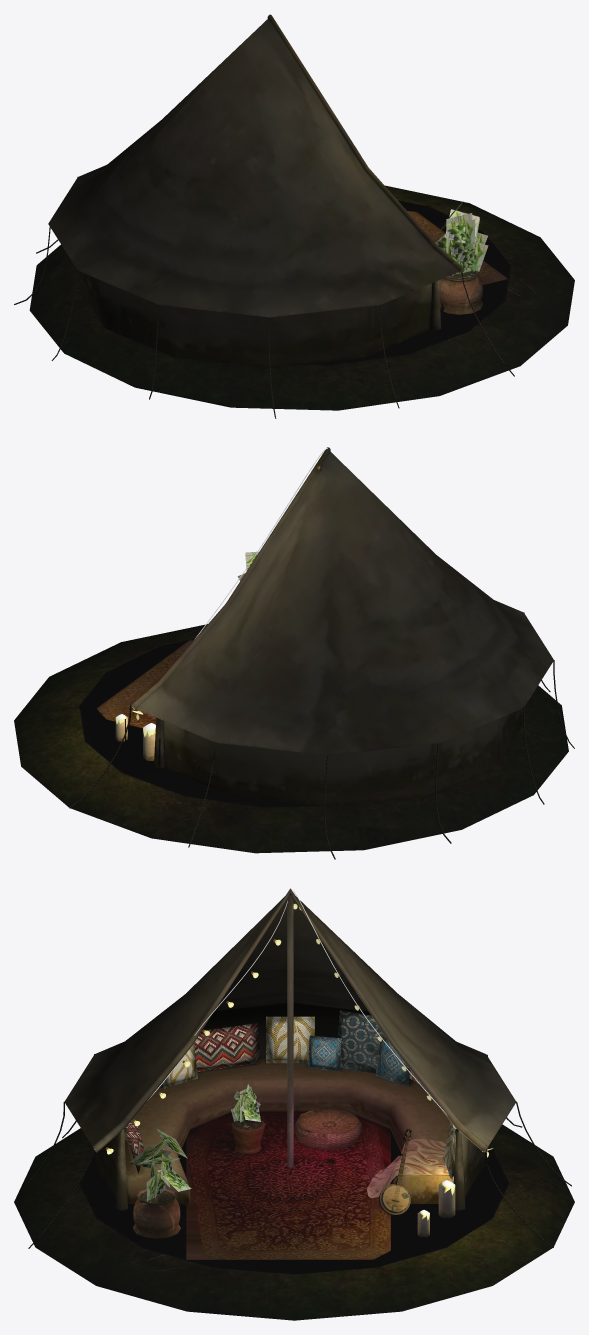
Rendered from echo_house_compressed.glb.
3 views of the same model, one above another, from view 1: azimuth 30°, elevation 25°; view 2: azimuth 150°, elevation 25°; view 3: azimuth 270°, elevation 25° (orthographic).
Visible parts, largest first — view 1: tent.001_Tent_0, Sphere.001_ground2_0, Plane.010_plant_0, carpet_floor_0, pole_small_props_0; view 2: tent.001_Tent_0, Sphere.001_ground2_0, carpet_floor_0, pole_small_props_0; view 3: tent.001_Tent_0, Sphere.001_ground2_0, carpet_floor_0, pole_small_props_0, pillow1.009_TT_material_override-pillow1.009_0, Plane.010_plant_0, Cylinder.005_Banjo_0, object 7.
Boxes of the visible parts, <box> form: tent.001_Tent_0: <box>48,14,463,368</box>; Sphere.001_ground2_0: <box>29,185,574,410</box>; Plane.010_plant_0: <box>435,201,488,276</box>; carpet_floor_0: <box>14,177,514,418</box>; pole_small_props_0: <box>439,271,483,314</box>; tent.001_Tent_0: <box>131,447,553,807</box>; Sphere.001_ground2_0: <box>14,624,568,853</box>; carpet_floor_0: <box>69,612,574,859</box>; pole_small_props_0: <box>115,466,319,760</box>; tent.001_Tent_0: <box>64,888,516,1210</box>; Sphere.001_ground2_0: <box>14,1124,574,1320</box>; carpet_floor_0: <box>28,1054,571,1259</box>; pole_small_props_0: <box>105,894,493,1238</box>; pillow1.009_TT_material_override-pillow1.009_0: <box>124,1010,456,1178</box>; Plane.010_plant_0: <box>129,1084,260,1202</box>; Cylinder.005_Banjo_0: <box>379,1128,411,1215</box>; object 7: <box>94,889,485,1151</box>.
Size of the model in its own units: 7.5 by 4.36 by 7.32.
Materials: 9 (8 with a texture image).
